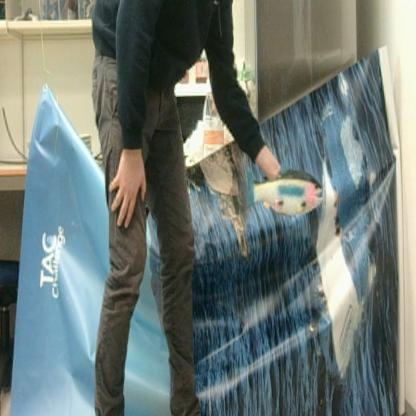rubberfish: (244, 169, 324, 218)
